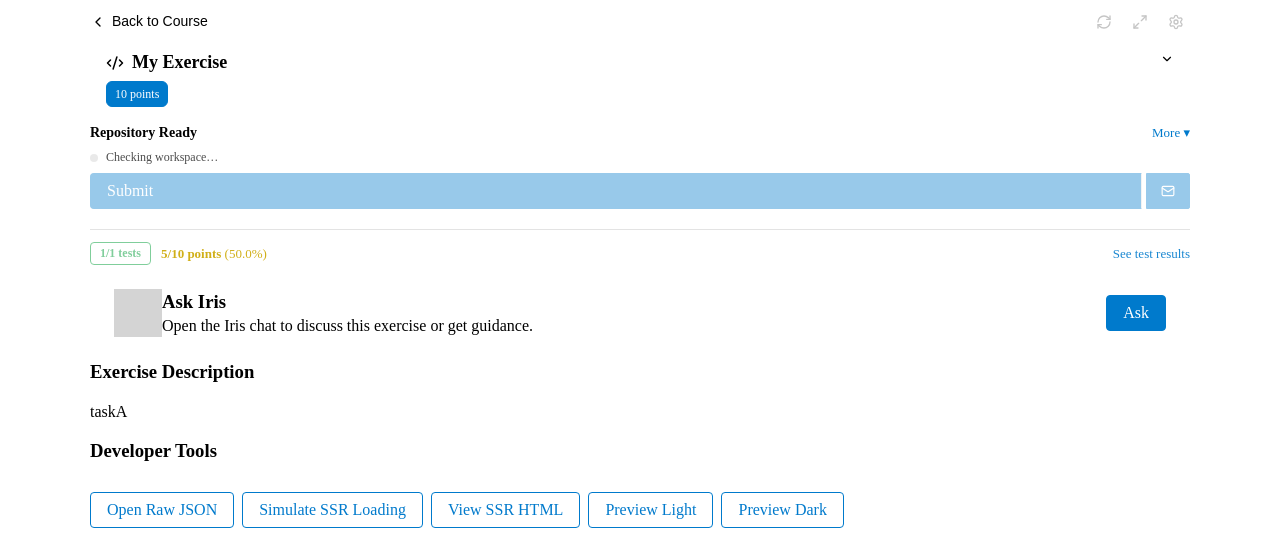
Test: ExerciseDetailView › task overlay shows not-executed count when feedbacks do not cover the task tests
Click the text with class "artemis-task" at (109, 412), box [90,403,127,420]
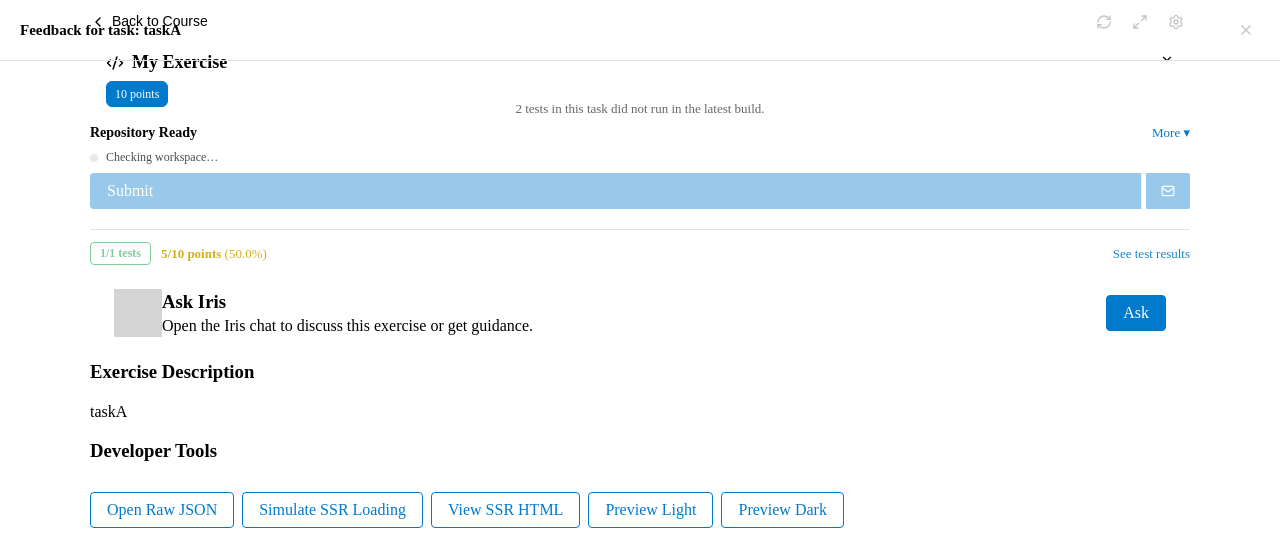
Result: the text "2 tests in this task did not run in the latest build." is shown at [515,101,765,116]
